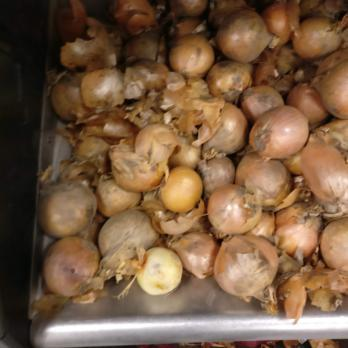Onion: (43, 0, 348, 300)
